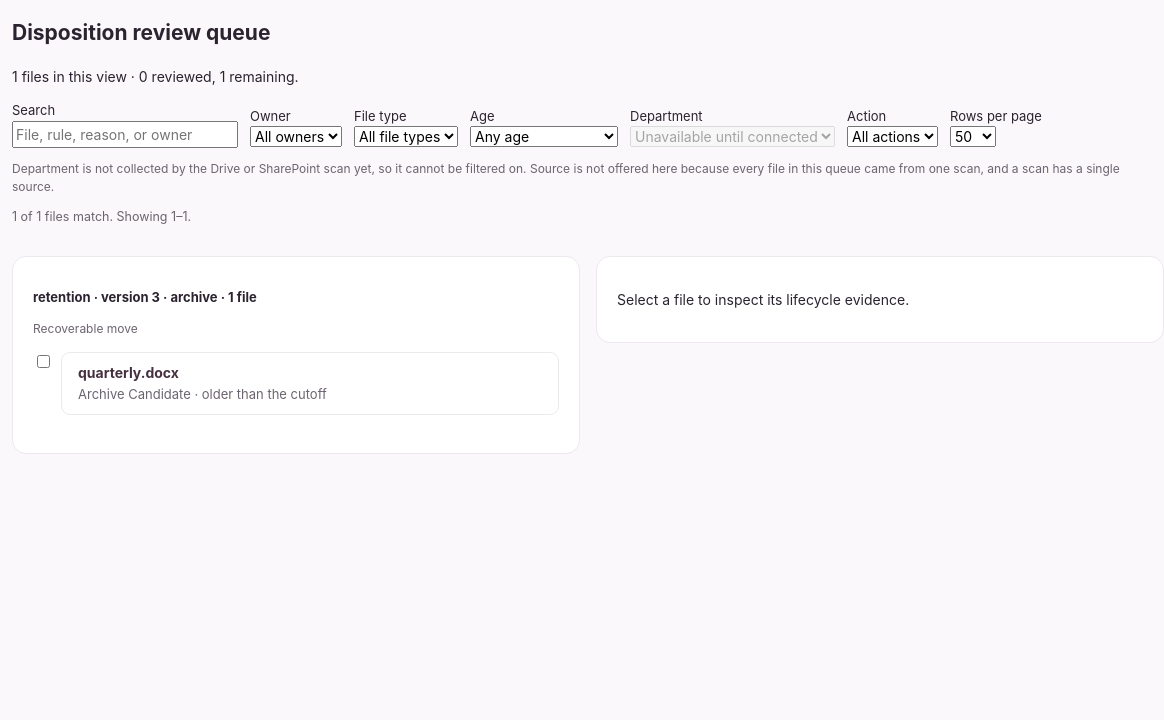
Scenario: the queue asks for detail and history together › still shows the evidence when only the history fails
Click the button at (310, 383), box [61,352,559,415]
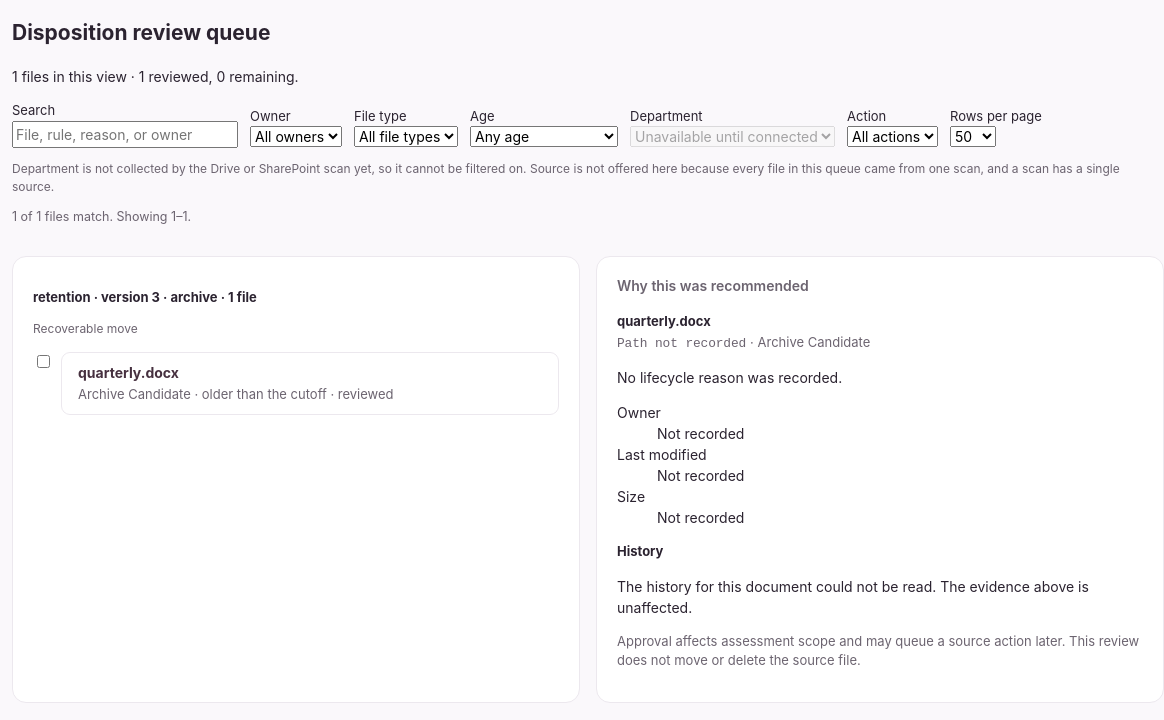
Result: the text "Why this was recommended" is shown at [617,277,809,294]
Result: the text "could not be read" is shown at [617,578,1089,616]
